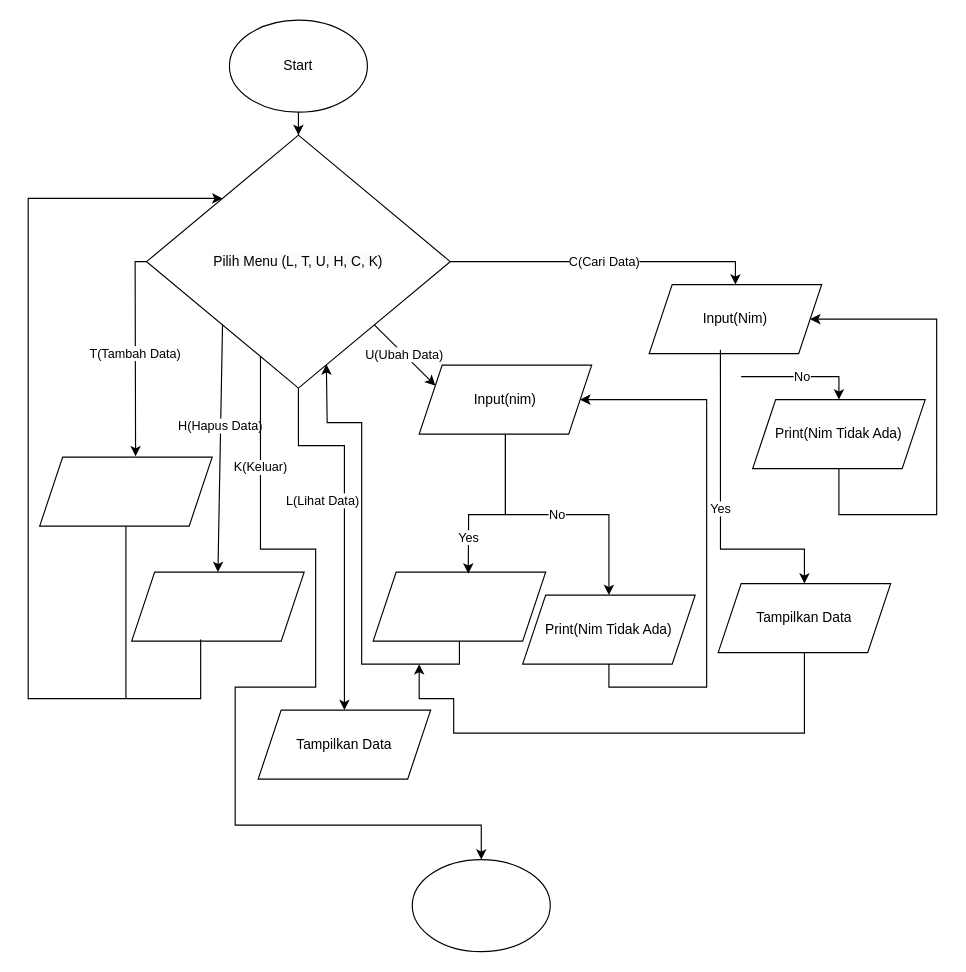
The diagram is 966 pixels wide and 972 high, and some of its shapes have lost their labels. The shapes that lost their labels are listed below. From the top down, each one's box as (x1, y1, x2, y2) in pixels, then its label:
(39, 456, 212, 526): Input(nim, nama, nilai)
(131, 571, 304, 641): Data Berhasil Dihapus
(372, 571, 546, 641): Input(nim, nama, nilai) Data Baru
(411, 858, 550, 952): End
